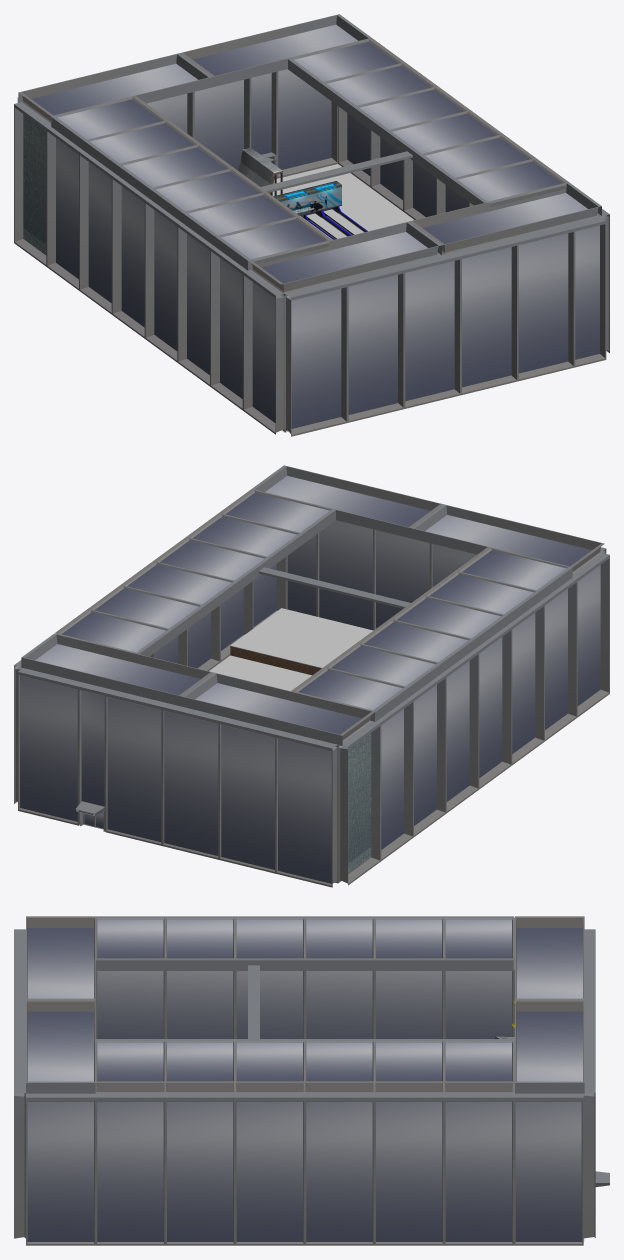
The model's file is BRockRoom.fbx.
The picture shows the model from 3 angles, top to bottom: view 1: azimuth 30°, elevation 25°; view 2: azimuth 150°, elevation 25°; view 3: azimuth 270°, elevation 25°; orthographic projection. The views are drawn at different scales.
Parts seen in each view (by area): view 1: floorBLC; view 2: floorBLC; view 3: floorBLC.
Part boxes in pixels (x1,y1,x2,y2): floorBLC: [14, 14, 609, 436]; floorBLC: [14, 465, 609, 887]; floorBLC: [14, 916, 609, 1245].
Size of the model in its own units: 3753 by 1708 by 5454.
